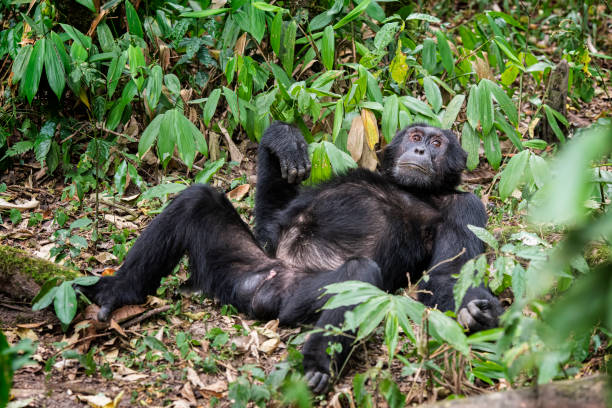chimpanzee: (384, 113, 471, 202)
